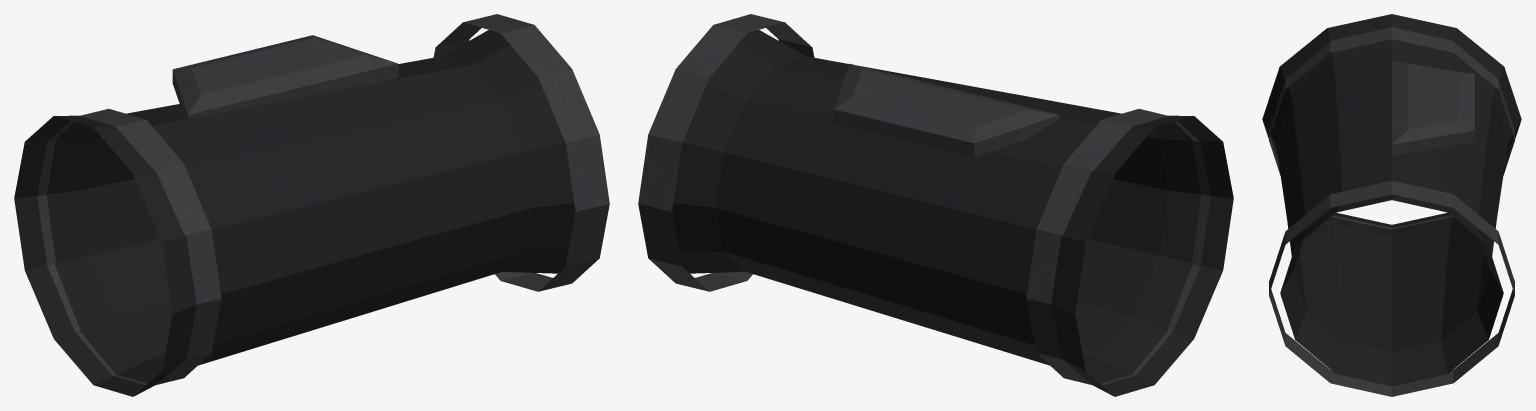
Rendered from eq_present_3_arm.glb.
3 renders of one model, left to right at view 1: azimuth 30°, elevation 25°; view 2: azimuth 150°, elevation 25°; view 3: azimuth 270°, elevation 25°, orthographic. The views are drawn at different scales.
Visible parts, largest first — view 1: eq_present_3_arm; view 2: eq_present_3_arm; view 3: eq_present_3_arm.
Boxes of the visible parts, bbox=[...] form: eq_present_3_arm: bbox=[14, 14, 609, 396]; eq_present_3_arm: bbox=[638, 14, 1233, 396]; eq_present_3_arm: bbox=[1262, 14, 1521, 396].
Size of the model in its own units: 0.2516 by 0.1404 by 0.1566.
Materials: 2 (2 with a texture image).
